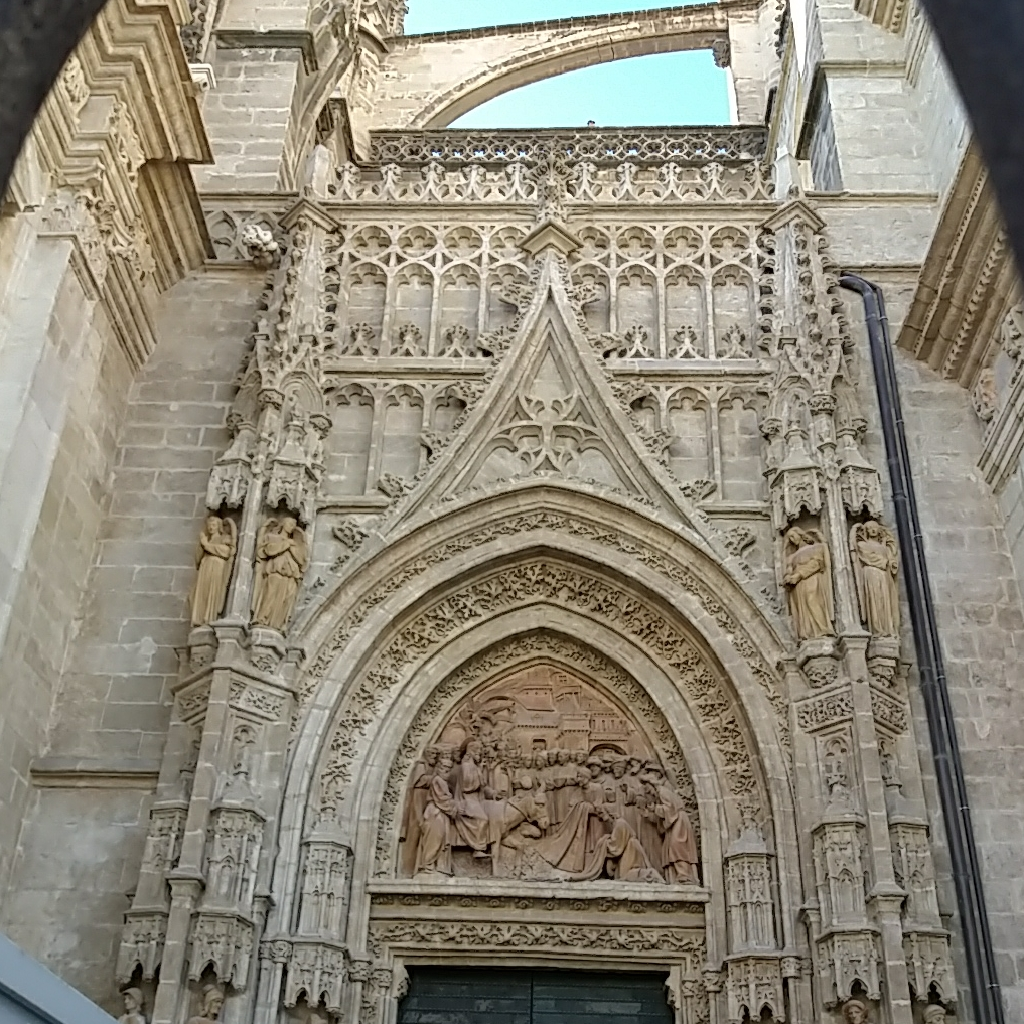arco-apuntado: (294, 477, 749, 890)
pinaculo-gotico: (218, 182, 344, 459), (754, 180, 872, 443)
